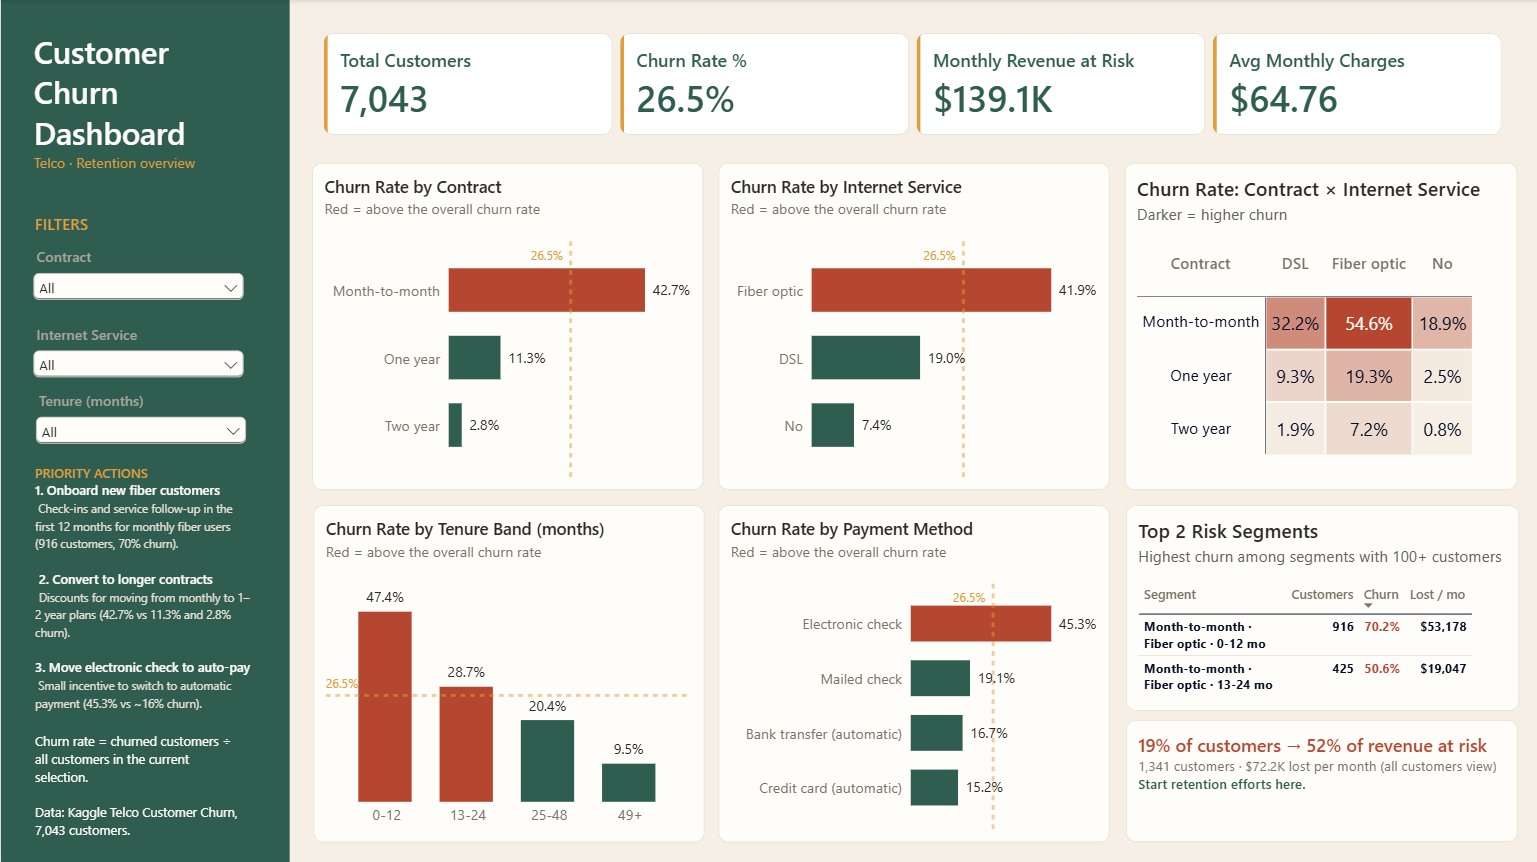

This screenshot's page, from the dashboard's own definition file:
{"tool":"powerbi","page":{"name":"Churn dashboard","canvas":[1600,900],"ordinal":0},"visuals":[{"type":"shape","box":[0,0,300,900],"z":0},{"type":"textbox","box":[21.8,20.3,254.4,208],"z":1},{"type":"textbox","box":[24,210,200,47],"z":2},{"type":"textbox","box":[24,750,240,150],"z":3},{"type":"slicer","fields":{"Values":["DimContract.Contract"]},"box":[17.4,245.6,252,70],"z":4},{"type":"slicer","fields":{"Values":["DimInternetService.InternetService"]},"box":[17.4,325.6,252,70],"z":5},{"type":"slicer","fields":{"Values":["Telco.TenureBand"]},"box":[18.9,395.3,252,70],"z":6},{"type":"cardVisual","fields":{"Data":["Telco.Total Customers","Telco.Churn Rate %","Telco.Monthly Revenue at Risk","Telco.Avg Monthly Charges"]},"box":[324,24,1250,130],"z":7},{"type":"clusteredBarChart","title":"Churn Rate by Contract","fields":{"Category":["DimContract.Contract"],"Y":["Telco.Churn Rate %"]},"box":[324,170,406,340],"z":8},{"type":"clusteredBarChart","title":"Churn Rate by Internet Service","fields":{"Category":["DimInternetService.InternetService"],"Y":["Telco.Churn Rate %"]},"box":[746,170.1,406,340],"z":9},{"type":"clusteredBarChart","title":"Churn Rate by Payment Method","fields":{"Category":["DimPaymentMethod.PaymentMethod"],"Y":["Telco.Churn Rate %"]},"box":[746,526,406,350],"z":10},{"type":"clusteredColumnChart","title":"Churn Rate by Tenure Band (months)","fields":{"Category":["Telco.TenureBand"],"Y":["Telco.Churn Rate %"]},"box":[324.1,526.2,406,350],"z":11},{"type":"pivotTable","title":"Churn Rate: Contract × Internet Service","fields":{"Columns":["Telco.InternetService"],"Rows":["Telco.Contract"],"Values":["Telco.Churn Rate %"]},"box":[1168,170.1,408,340],"z":12},{"type":"tableEx","title":"Top 2 Risk Segments","fields":{"Values":["Telco.Segment","Telco.Total Customers","Telco.Churn Rate %","Telco.Monthly Revenue at Risk"]},"box":[1168.6,526.2,408.4,213.7],"z":13},{"type":"textbox","box":[1168.6,750,407,126.5],"z":14},{"type":"textbox","box":[24,470,252,300],"z":15}]}

Visuals, with their boxes in screenshot pixels (x1, y1, x2, y2), scaled from the page's 1600x900 canvas onto the 1537x862 screenshot:
shape: box(0, 0, 288, 861)
textbox: box(21, 19, 265, 219)
textbox: box(23, 201, 215, 246)
textbox: box(23, 718, 254, 861)
slicer - DimContract.Contract: box(17, 235, 259, 302)
slicer - DimInternetService.InternetService: box(17, 312, 259, 379)
slicer - Telco.TenureBand: box(18, 379, 260, 446)
cardVisual - Telco.Total Customers x Telco.Churn Rate %: box(311, 23, 1512, 147)
"Churn Rate by Contract" clusteredBarChart: box(311, 163, 701, 488)
"Churn Rate by Internet Service" clusteredBarChart: box(717, 163, 1107, 489)
"Churn Rate by Payment Method" clusteredBarChart: box(717, 504, 1107, 839)
"Churn Rate by Tenure Band (months)" clusteredColumnChart: box(311, 504, 701, 839)
"Churn Rate: Contract × Internet Service" pivotTable: box(1122, 163, 1514, 489)
"Top 2 Risk Segments" tableEx: box(1123, 504, 1515, 709)
textbox: box(1123, 718, 1514, 839)
textbox: box(23, 450, 265, 737)
